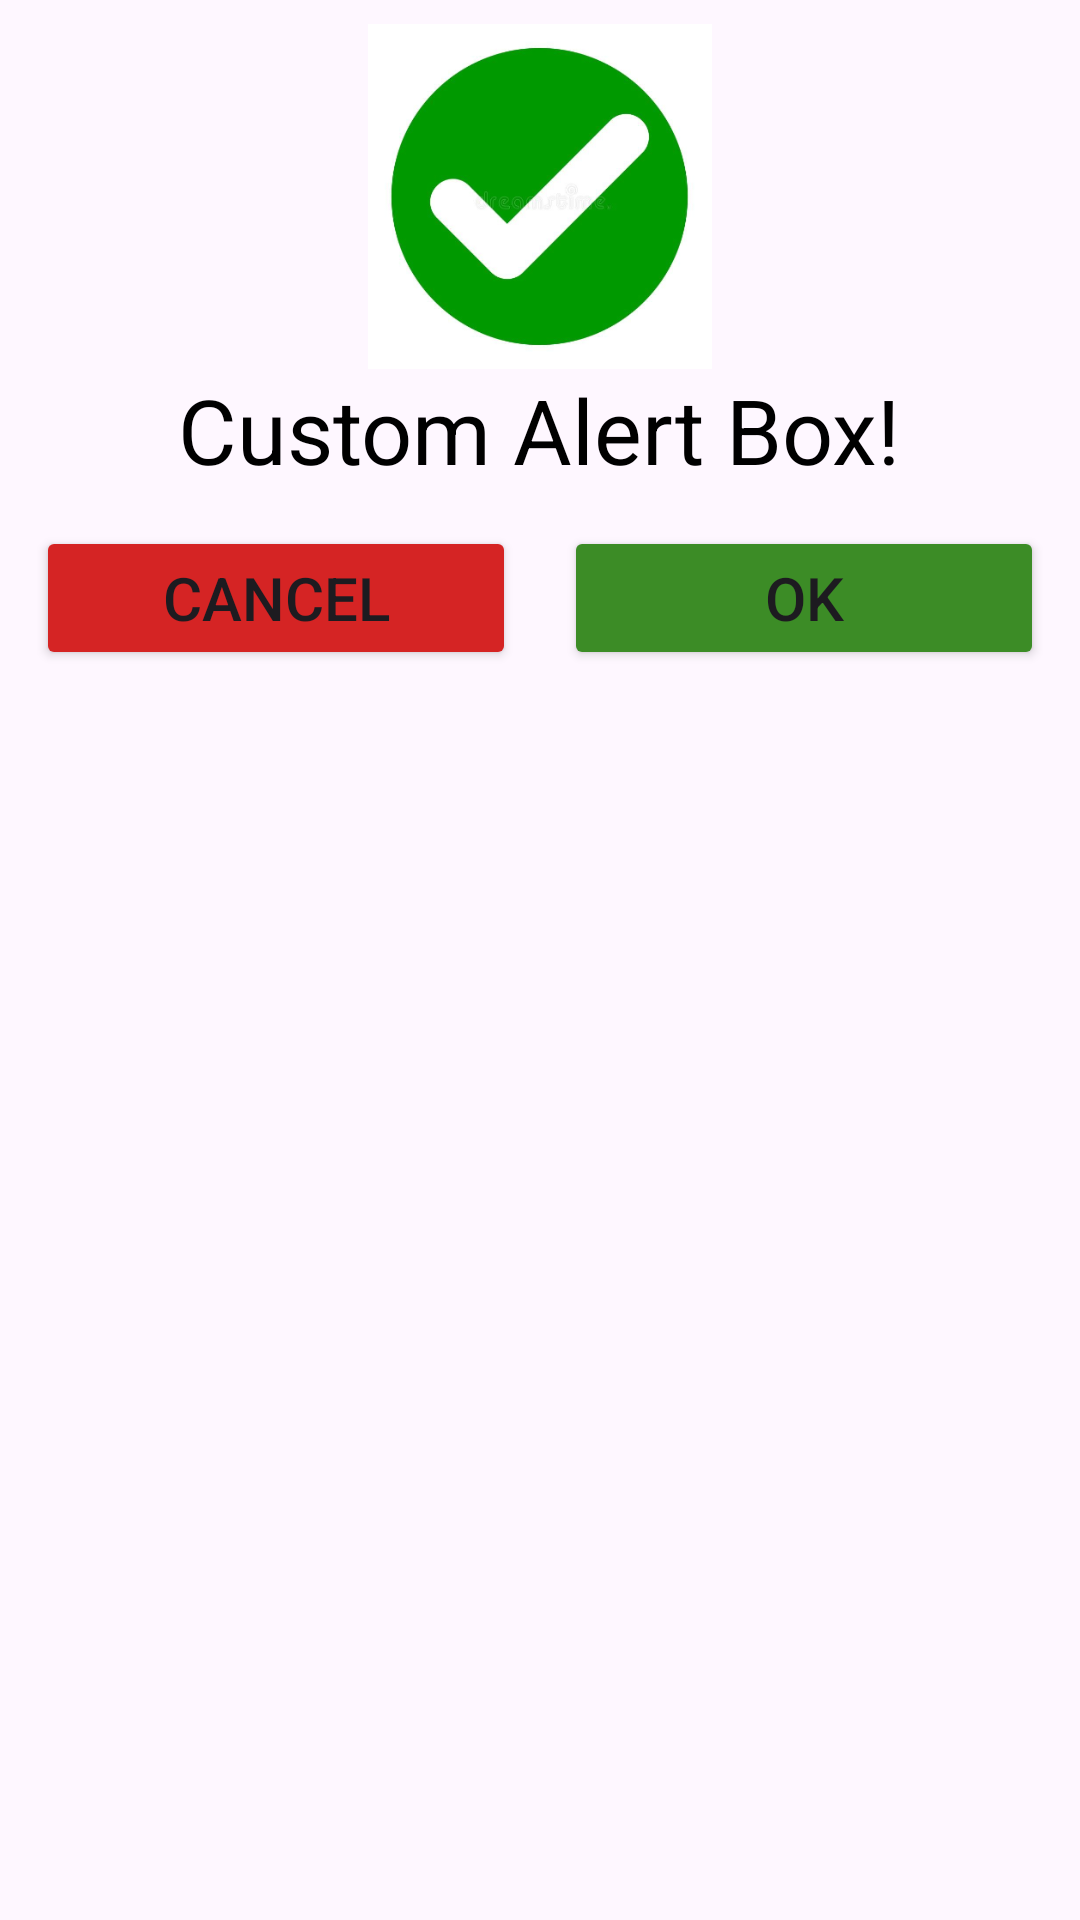

Icons on this 1080w x 1920h Android screen, each with its box as (x1, y1, x2, y2):
tick: (391, 47, 688, 346)
